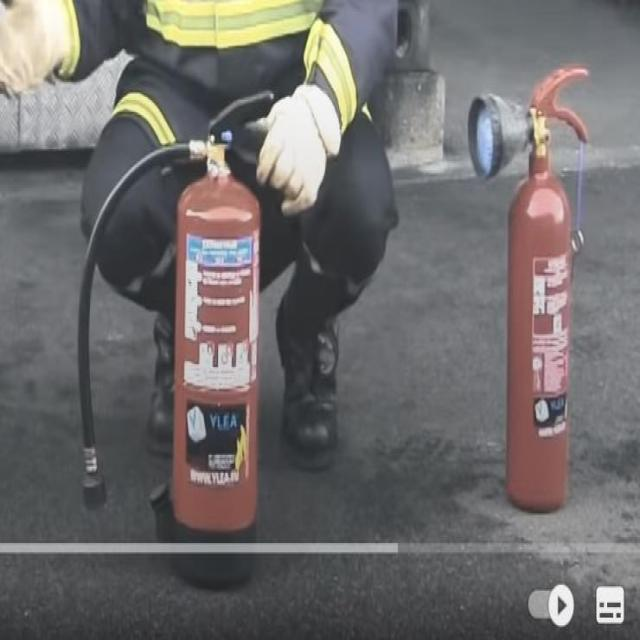fire_extinguisher: (70, 78, 299, 600), (463, 55, 592, 522)
